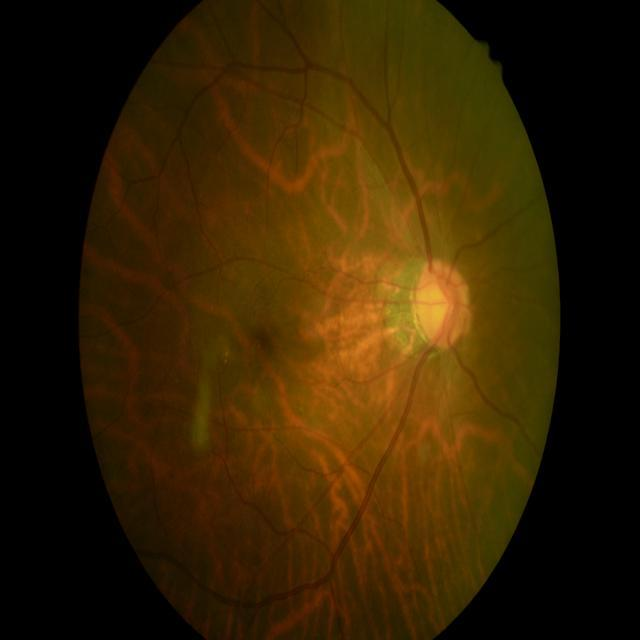cup: (420, 270, 455, 340)
disk: (410, 258, 472, 350)
